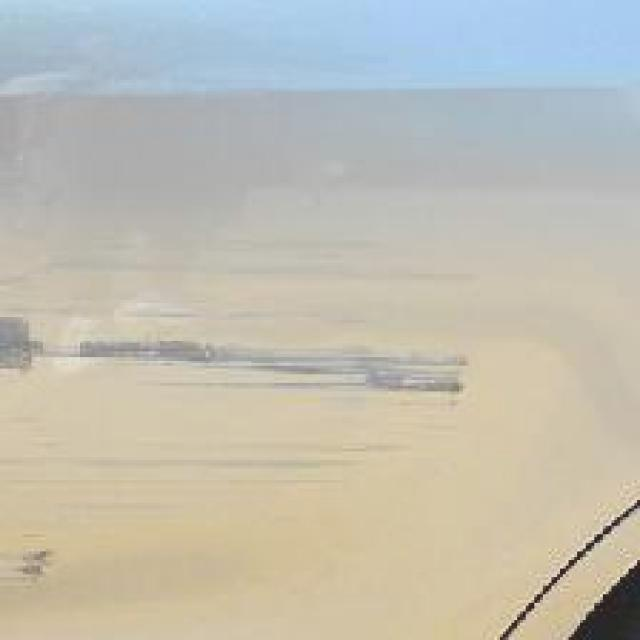minor: (45, 242, 473, 280)
moderate: (0, 316, 461, 392), (61, 439, 403, 474), (114, 290, 212, 347), (0, 544, 53, 591)
